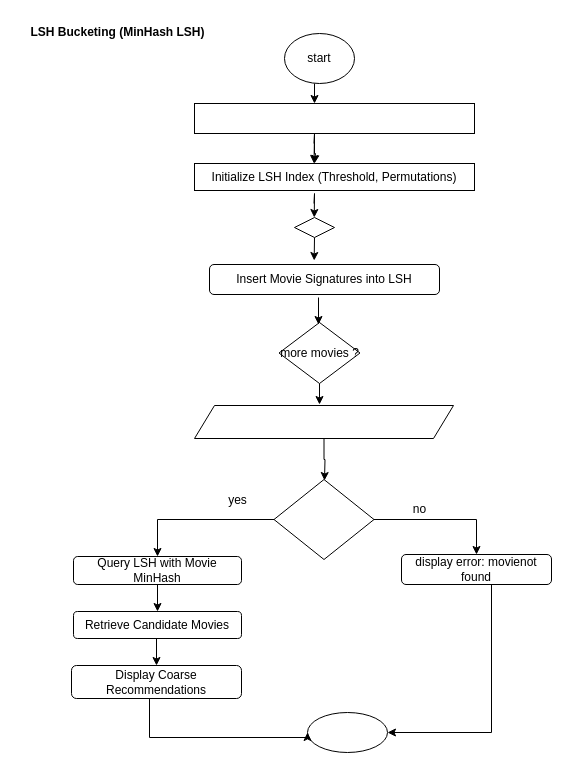
Image size: 569x770. Some labels were removed from this diagram. The shapes that lost their labels are listed below. From the top down, each one's centre as x and y in pixels, then its label:
At [334,118]: "Generate MinHash Signatures from Metadata".
At [324,421]: "receive user input ( movie title )".
At [323,519]: "title found ?".
At [347,732]: "end".
